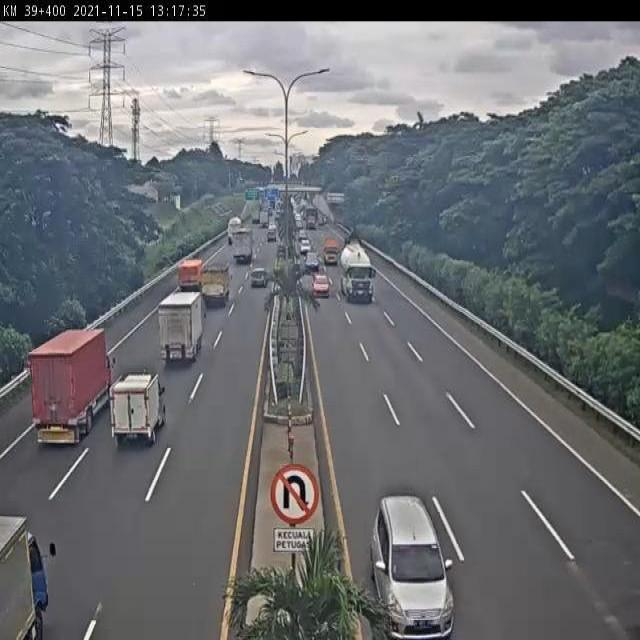car: (370, 495, 461, 637), (249, 264, 270, 292), (312, 272, 331, 301)
truck-l-: (30, 329, 115, 448), (159, 290, 205, 366), (338, 245, 374, 303)
truck-m-: (197, 261, 233, 311), (176, 259, 207, 293)
truck-s-: (109, 370, 166, 450)
